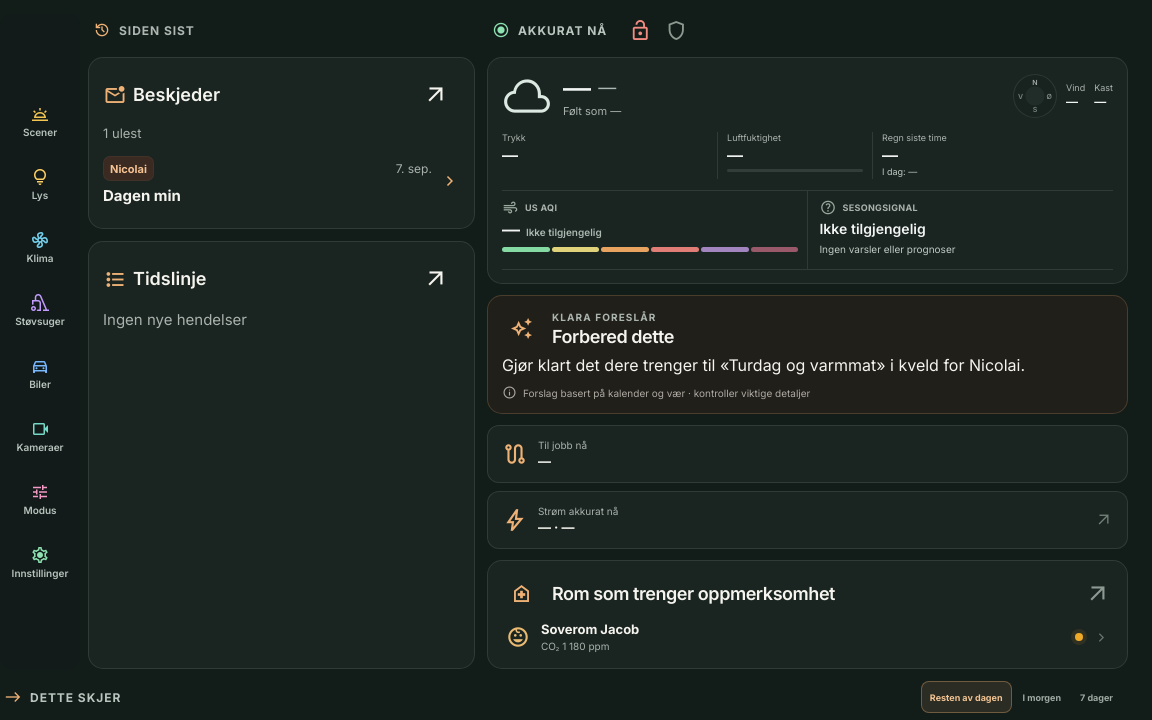
MainDashboardPrototype Nicolai agenda › keeps stale weekend greetings excluded from the full Nicolai today overview
The width and height of the screenshot is (1152, 720).
Click the button named "Se alle beskjeder" at (436, 95), box [412, 71, 460, 119]
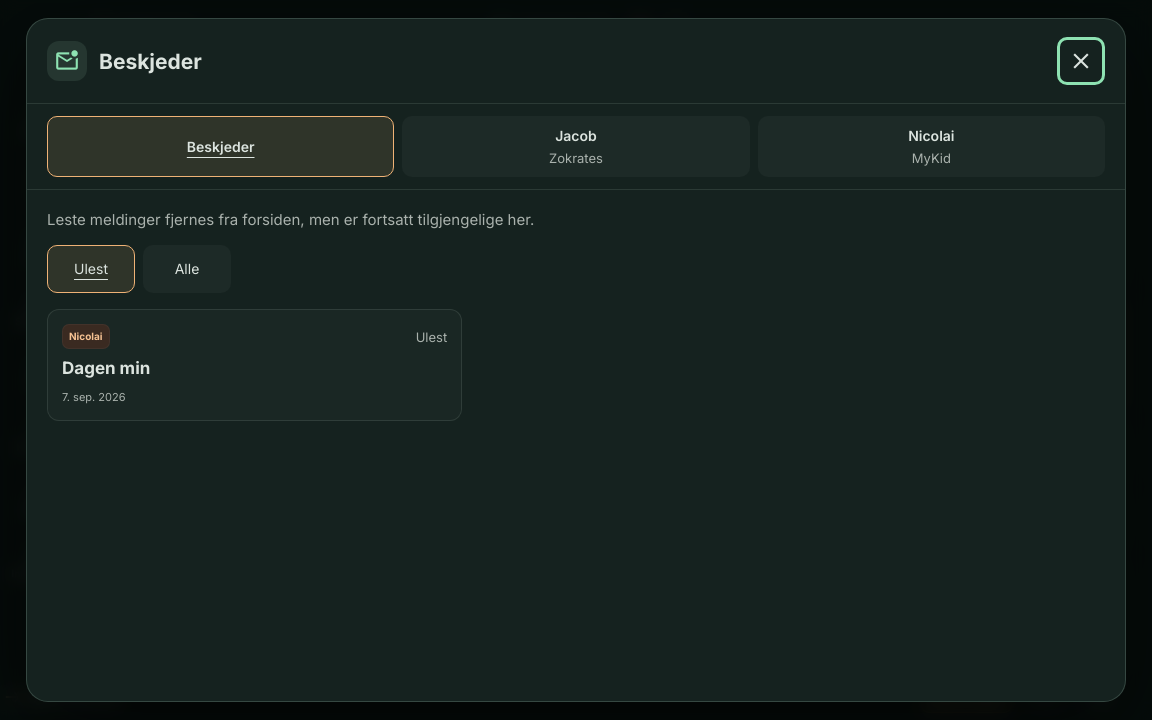
Click the tab "Nicolai MyKid" at (931, 146), box [758, 116, 1105, 177]
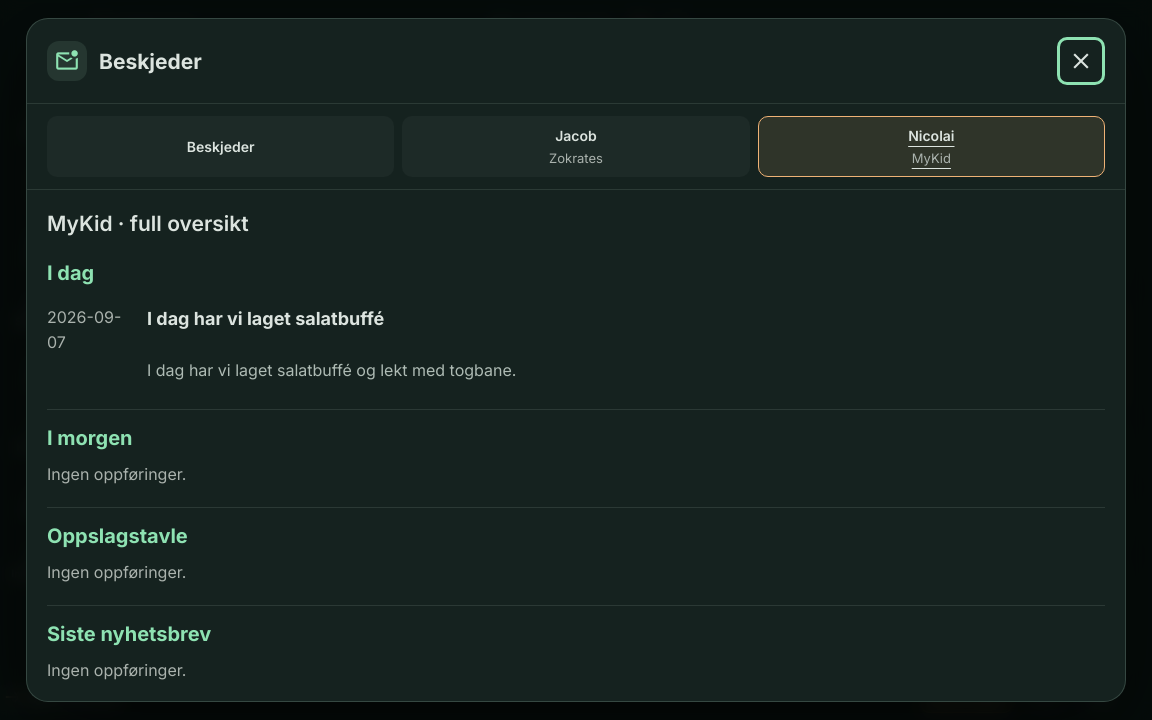
Result: the text "I dag har vi laget salatbuffé" is shown at [147, 308, 384, 329]
Result: the text "I dag har vi laget salatbuffé og lekt med togbane." is shown at [147, 360, 516, 380]
